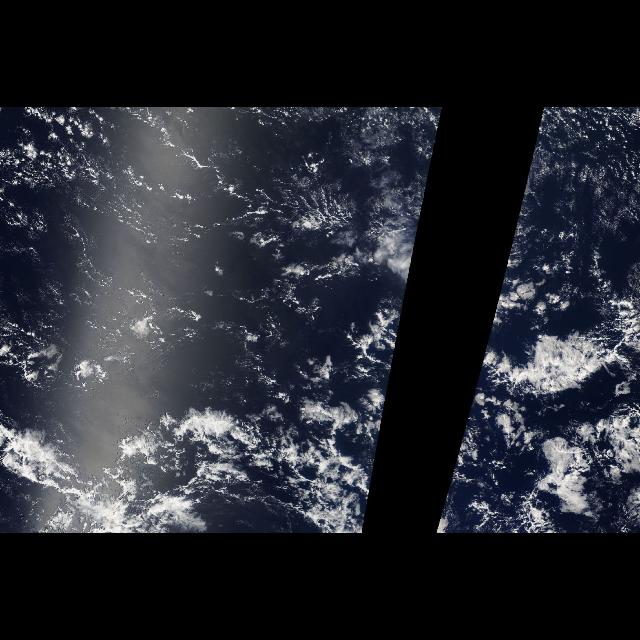Sugar: (8, 114, 366, 366)
